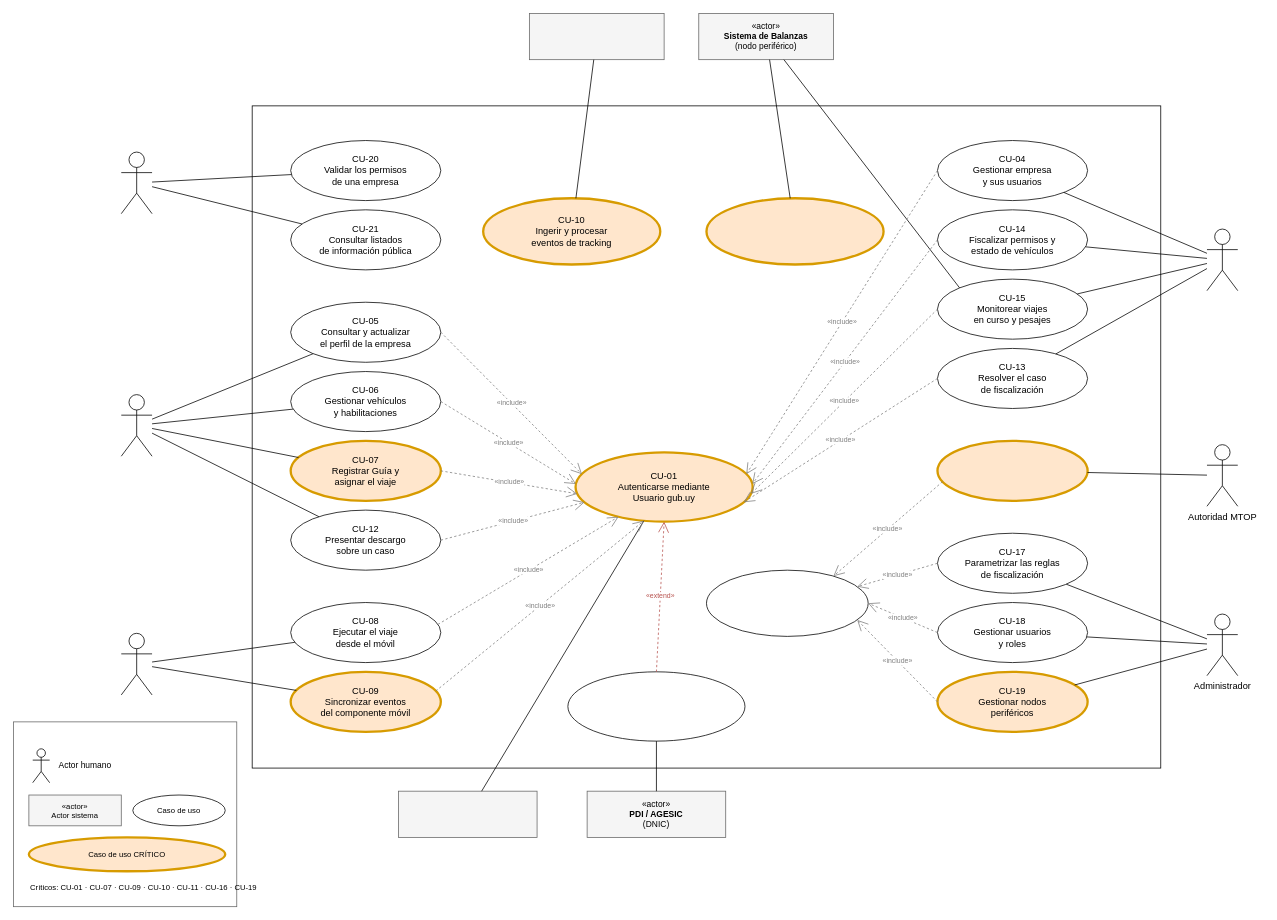
This 1277x920 diagram has some shape labels left out. Here are the shapes that lost their labels. From the top down, the box of each, then its label:
(529, 13, 664, 60): «actor» Sistema de Tracking (nodo periférico)
(121, 151, 152, 214): Público general / empresa cliente
(705, 197, 884, 265): CU-11 Detectar incumplimiento y generar el caso
(1206, 228, 1238, 291): Funcionario de Fiscalización MTOP
(121, 394, 152, 456): Responsable de empresa
(251, 105, 1161, 768): carga.uy
(936, 439, 1088, 502): CU-16 Consultar reportes gerenciales y exportar
(706, 569, 868, 636): CU-03 Autenticarse en el backoffice
(121, 633, 152, 695): Chofer
(567, 671, 745, 741): CU-02 Completar perfil del ciudadano (1er ingreso)
(13, 721, 237, 907): Referencia
(398, 790, 537, 837): «actor» Usuario gub.uy (ID Uruguay)
